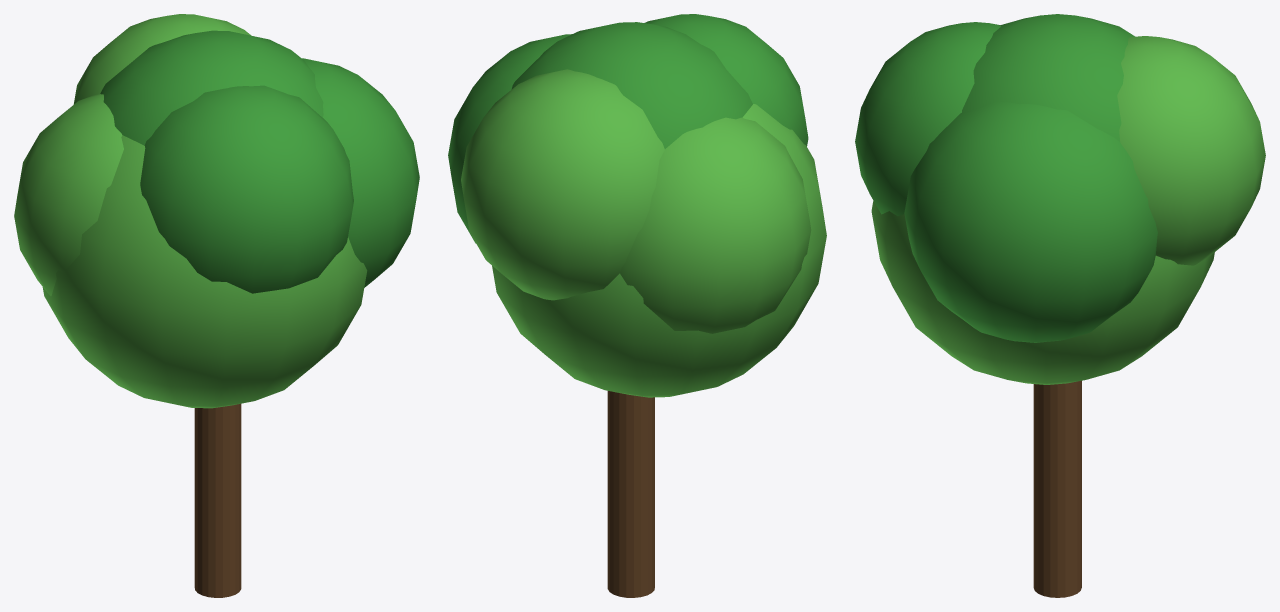
Rendered from tree_oak.glb.
3 renders of one model, left to right at view 1: azimuth 30°, elevation 25°; view 2: azimuth 150°, elevation 25°; view 3: azimuth 270°, elevation 25°, orthographic. The views are drawn at different scales.
Parts seen in each view (by area): view 1: Sphere, Sphere.001, Cylinder; view 2: Sphere.001, Sphere, Cylinder; view 3: Sphere, Sphere.001, Cylinder.
Boxes of the visible parts, bbox=[...] form: Sphere: bbox=[100, 30, 419, 293]; Sphere.001: bbox=[14, 14, 367, 408]; Cylinder: bbox=[194, 403, 241, 597]; Sphere.001: bbox=[461, 69, 826, 397]; Sphere: bbox=[448, 14, 808, 243]; Cylinder: bbox=[607, 391, 654, 597]; Sphere: bbox=[855, 14, 1157, 342]; Sphere.001: bbox=[871, 36, 1265, 384]; Cylinder: bbox=[1033, 380, 1081, 597].
Bounding box in the file's own units: 3.8 × 5.65 × 3.75.
